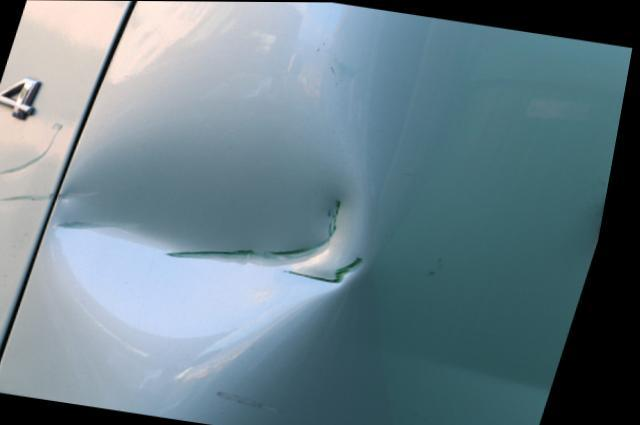dent: (59, 101, 379, 348)
